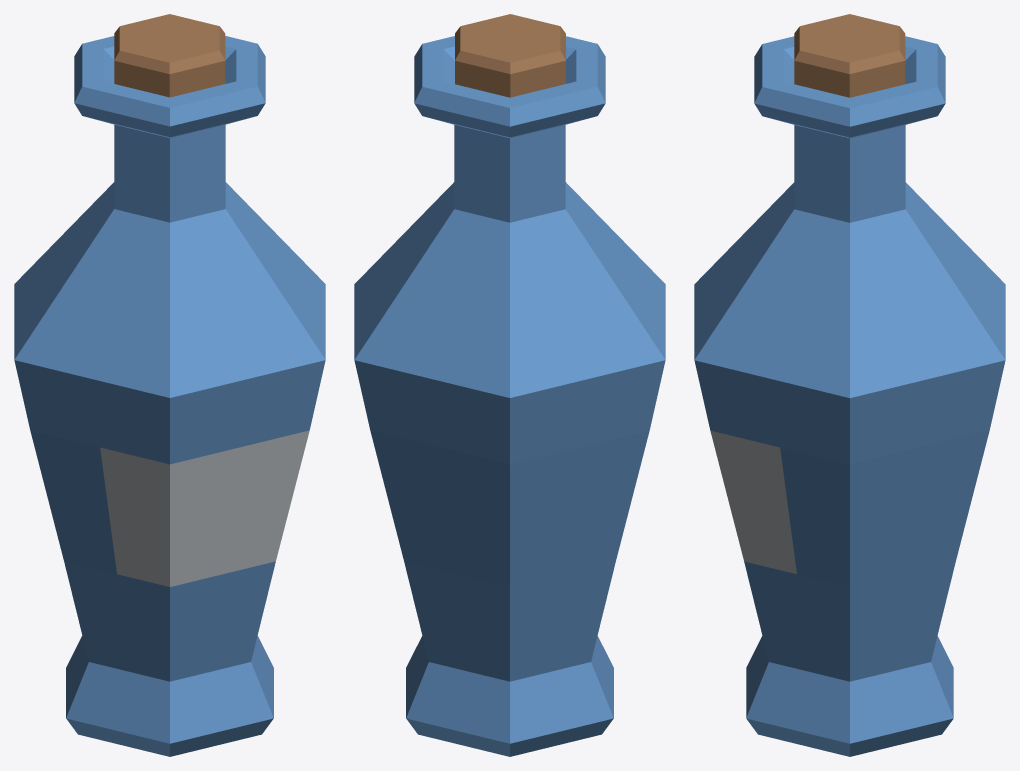
Rendered from Blue_Potion_8(Label).fbx.
3 renders of one model, left to right at view 1: azimuth 30°, elevation 25°; view 2: azimuth 150°, elevation 25°; view 3: azimuth 270°, elevation 25°, orthographic.
Visible parts, largest first — view 1: Blue_Potion_8(Label); view 2: Blue_Potion_8(Label); view 3: Blue_Potion_8(Label).
Boxes of the visible parts, x1,y1,x2,y2 form: Blue_Potion_8(Label): (14,14,325,756); Blue_Potion_8(Label): (354,14,665,756); Blue_Potion_8(Label): (694,14,1005,756).
Size of the model in its own units: 16.45 by 34.03 by 14.25.
